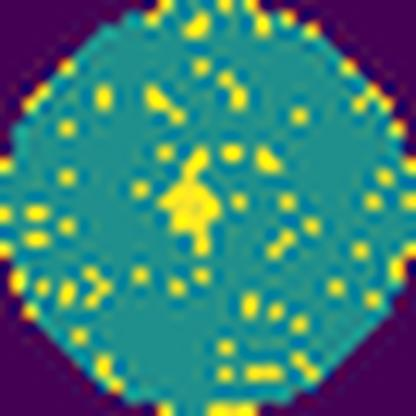Center: (155, 144, 225, 260)
